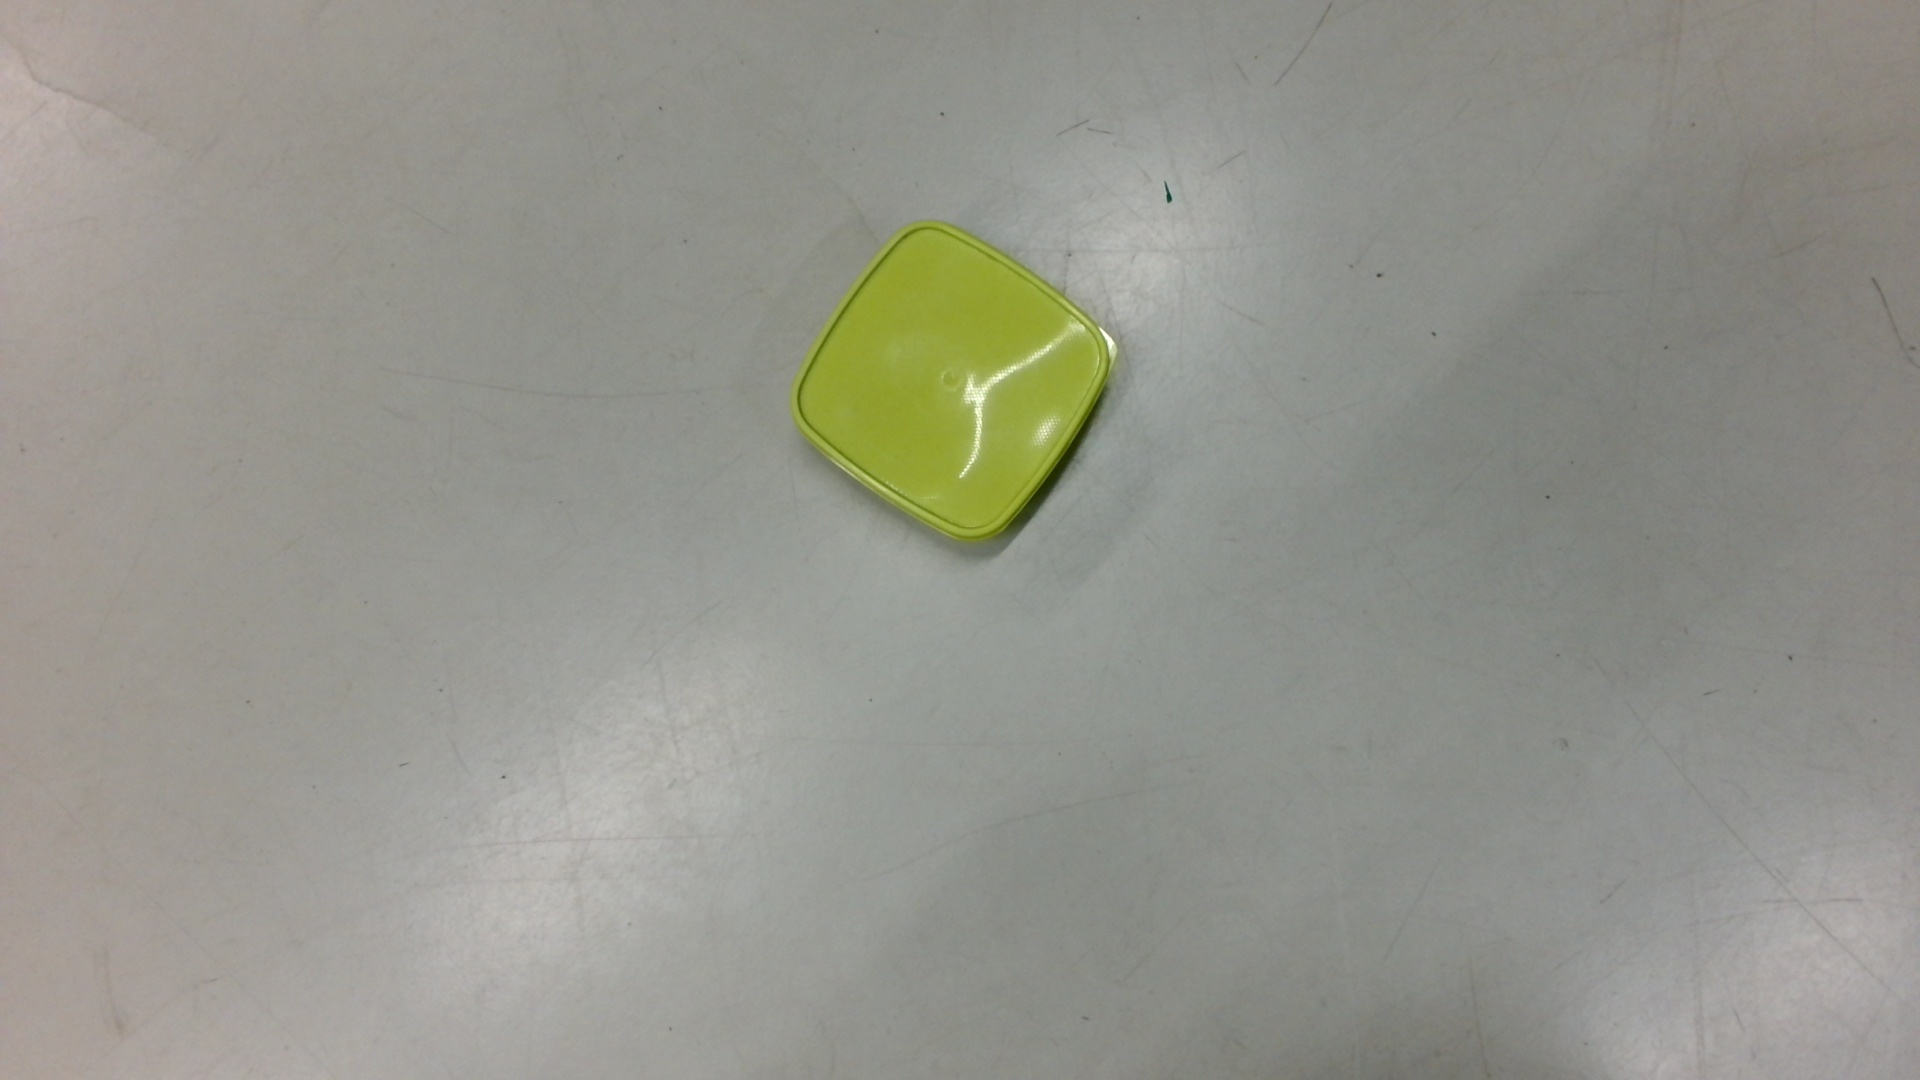Box: (786, 218, 1129, 553)
